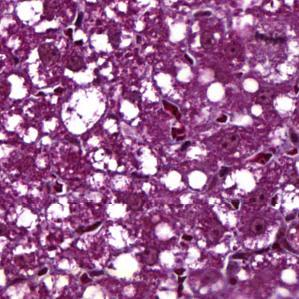ballooning: (58, 82, 110, 138)
